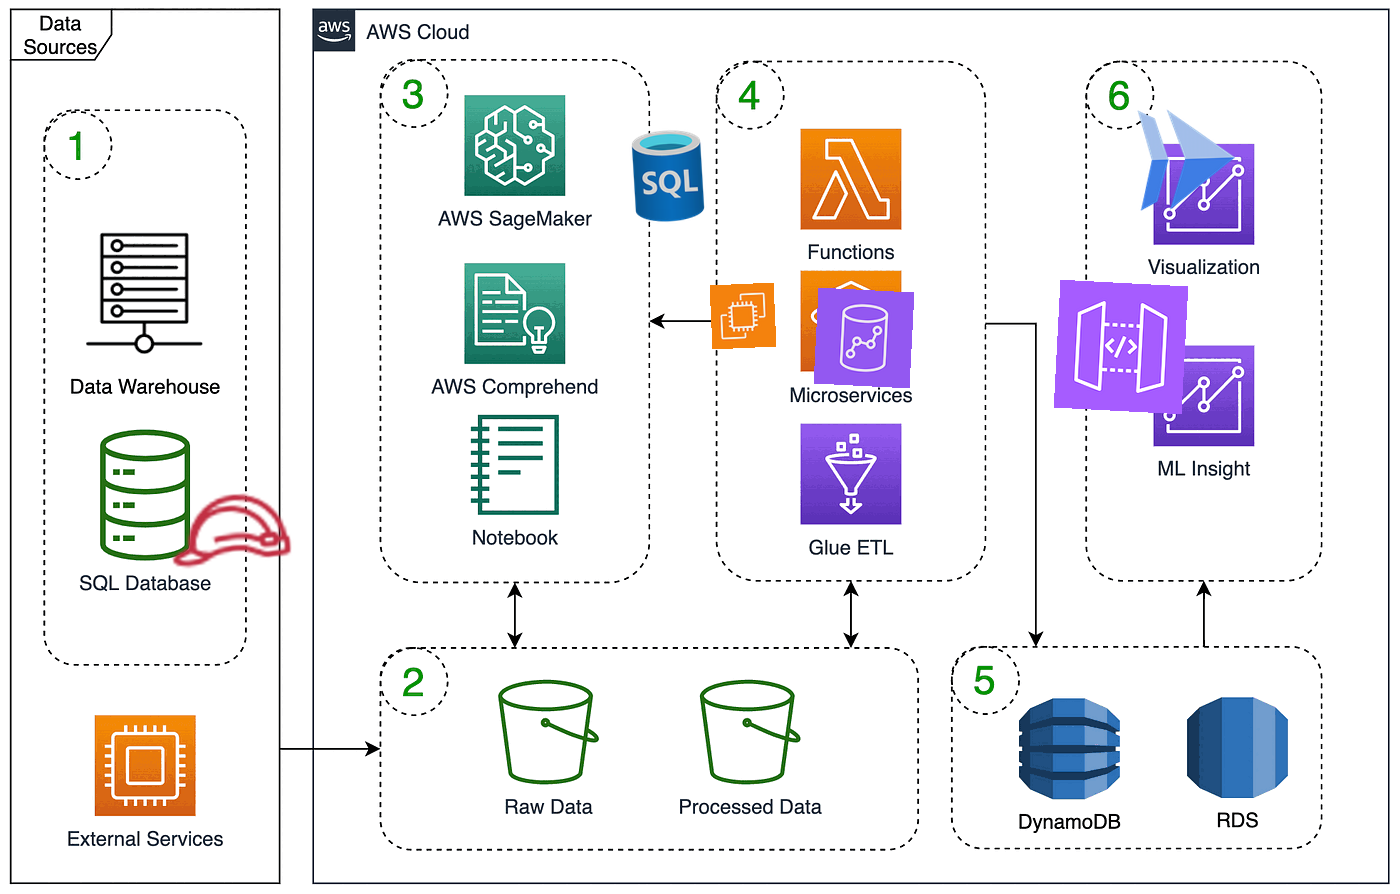aws_amazon_api_gateway: (1053, 279, 1189, 415)
aws_amazon_ec2: (709, 282, 777, 350)
aws_amazon_redshift: (813, 287, 915, 389)
aws_identity_access_management_role: (161, 461, 299, 599)
azure_sql_database: (617, 125, 719, 227)
gcp_cloud_run: (1118, 92, 1252, 226)
